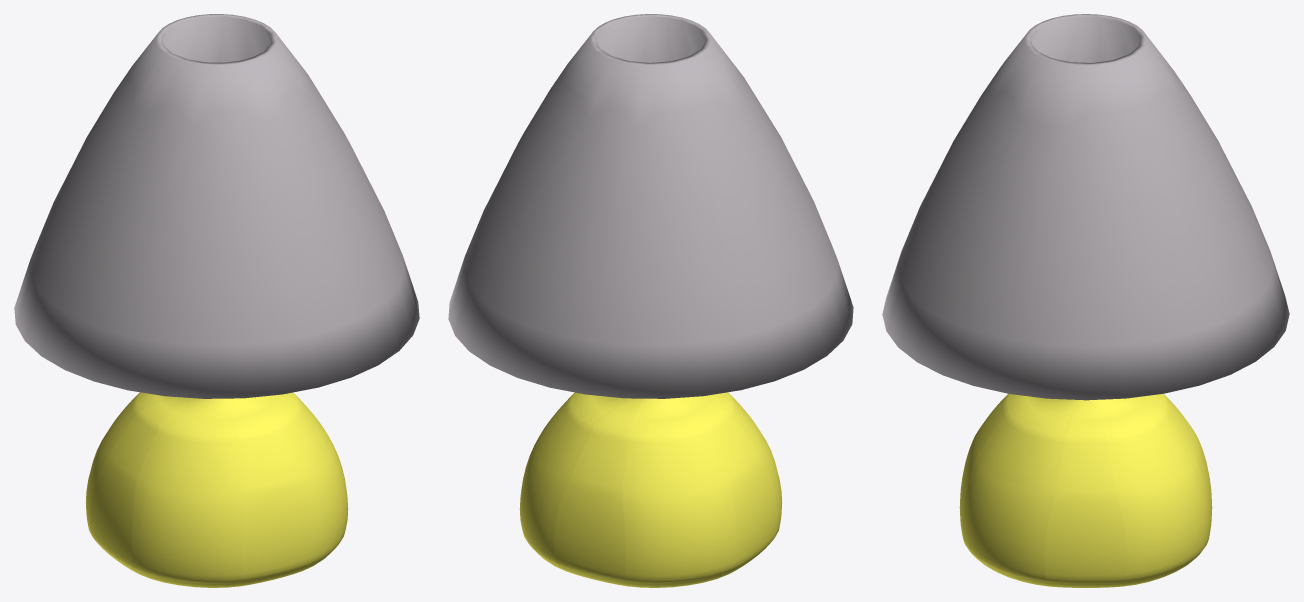
File: lamp.glb
3 views of the same model, side by side, from view 1: azimuth 30°, elevation 25°; view 2: azimuth 150°, elevation 25°; view 3: azimuth 270°, elevation 25° (orthographic).
Visible parts, largest first — view 1: Object_5, Object_3; view 2: Object_5, Object_3; view 3: Object_5, Object_3.
Boxes of the visible parts, box(x1,y1,x2,y2) form: Object_5: box(14, 14, 419, 398); Object_3: box(85, 392, 348, 587); Object_5: box(448, 14, 853, 398); Object_3: box(519, 392, 782, 587); Object_5: box(882, 14, 1289, 400); Object_3: box(959, 393, 1212, 587).
Bounding box in the file's own units: 0.3815 × 0.5206 × 0.3815.
